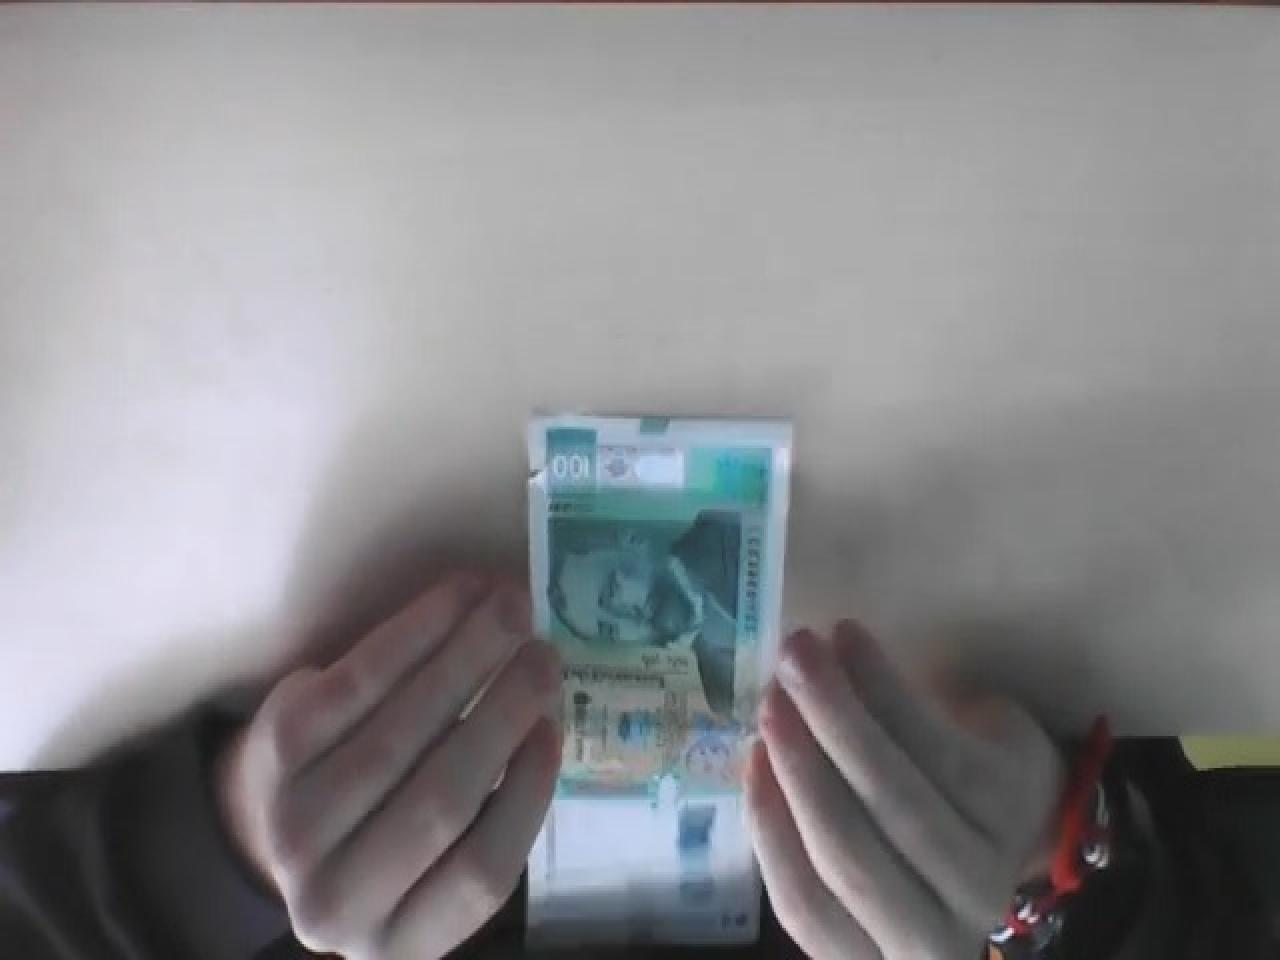100leva: (518, 410, 794, 960)
